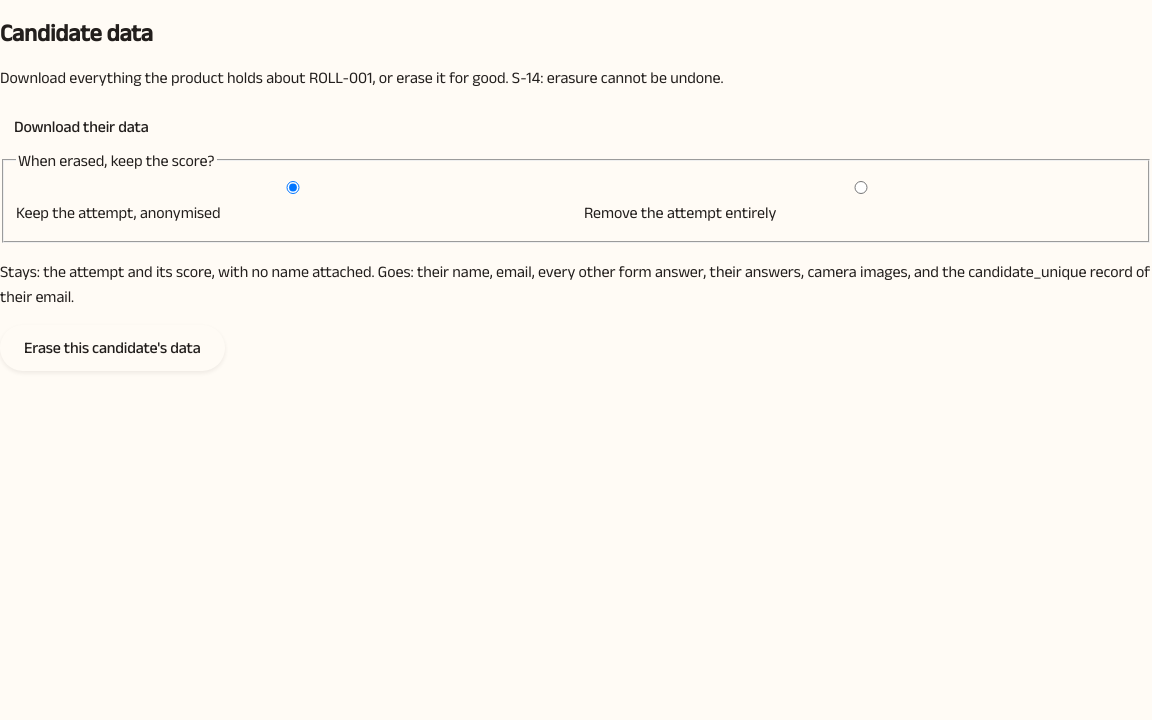
Scenario: CandidateDataPanel (S-14) › has no axe violations with the typed-confirmation dialog open
Step 1. Click the button "Erase this candidate's data" → (112, 348), box [0,325,224,371]
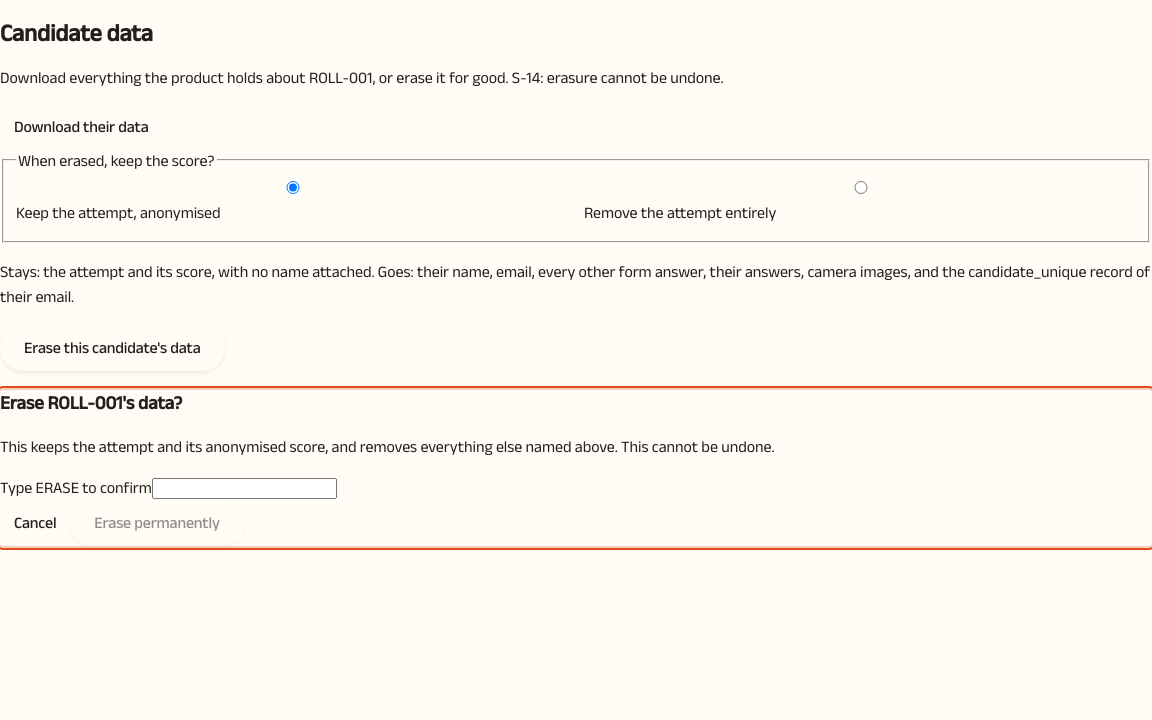
Expected: the dialog is shown, [0,390,1151,546]
